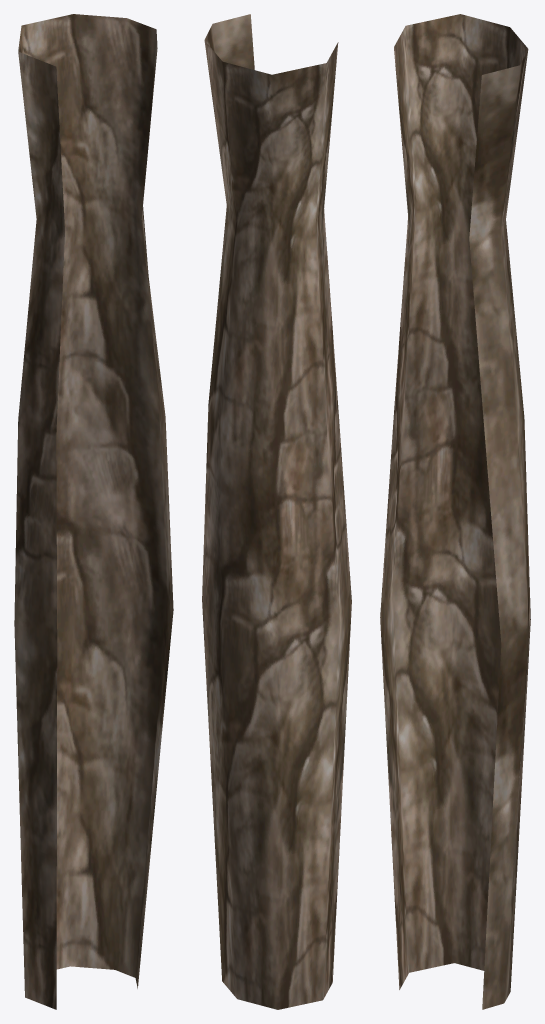
File: OVERHILL_A_01_LINE348.fbx
3 renders of one model, left to right at view 1: azimuth 30°, elevation 25°; view 2: azimuth 150°, elevation 25°; view 3: azimuth 330°, elevation 25°, orthographic.
Parts seen in each view (by area): view 1: OVERHILL_A_01_LINE348; view 2: OVERHILL_A_01_LINE348; view 3: OVERHILL_A_01_LINE348.
Boxes of the visible parts, x1,y1,x2,y2 form: OVERHILL_A_01_LINE348: [14, 14, 173, 1009]; OVERHILL_A_01_LINE348: [202, 14, 351, 1009]; OVERHILL_A_01_LINE348: [380, 14, 530, 1009].
Size of the model in its own units: 23405 by 147071 by 16760.
1 material, 1 textured.
